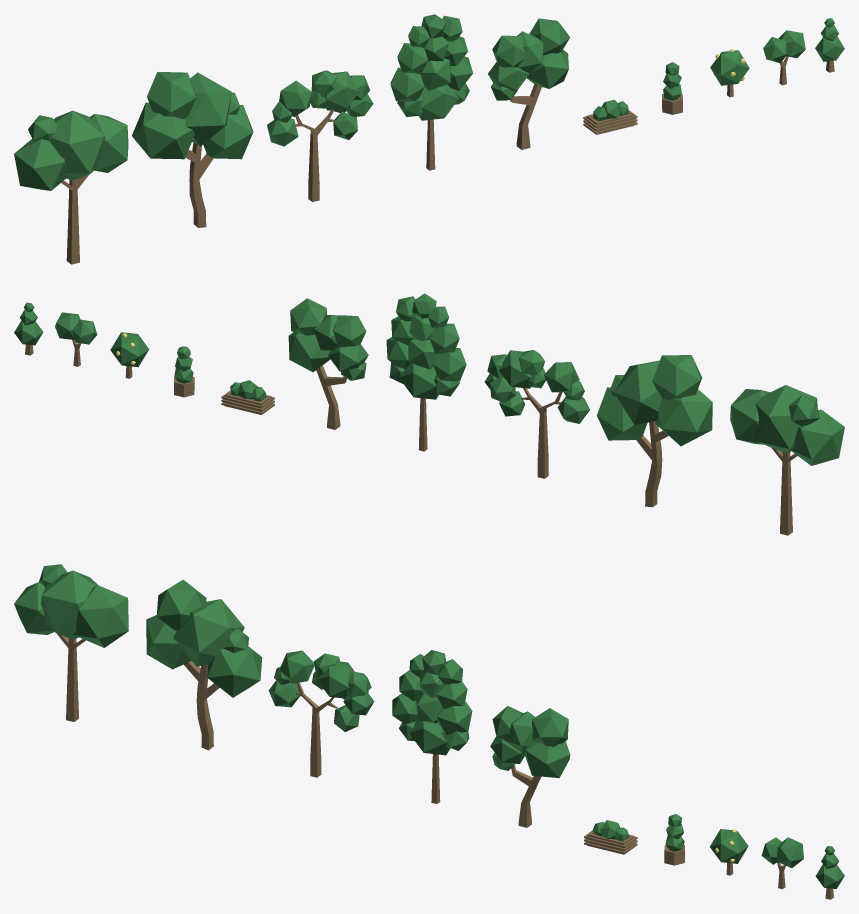
The model's file is tree.fbx.
The picture shows the model from 3 angles, top to bottom: view 1: azimuth 30°, elevation 25°; view 2: azimuth 150°, elevation 25°; view 3: azimuth 330°, elevation 25°; orthographic projection.
Parts seen in each view (by area): view 1: bigtree2, bigtree1, bigtree5, bigtree3, bigtree6, pommai1, smalltree2, smalltree1, pommai2, smalltree3; view 2: bigtree2, bigtree1, bigtree5, bigtree6, bigtree3, pommai1, smalltree2, smalltree1, pommai2, smalltree3; view 3: bigtree2, bigtree1, bigtree5, bigtree3, bigtree6, pommai1, smalltree2, smalltree1, pommai2, smalltree3.
Boxes of the visible parts, x1,y1,x2,y2 form: bigtree2: (132,72,253,227); bigtree1: (14,110,128,264); bigtree5: (390,14,472,170); bigtree3: (267,70,373,201); bigtree6: (488,18,569,149); pommai1: (583,99,637,134); smalltree2: (763,30,805,85); smalltree1: (710,49,749,97); pommai2: (662,62,682,114); smalltree3: (815,18,844,72); bigtree2: (597,355,712,507); bigtree1: (730,385,844,535); bigtree5: (386,293,466,451); bigtree6: (288,298,368,429); bigtree3: (484,350,590,478); pommai1: (221,380,274,414); smalltree2: (55,312,97,366); smalltree1: (110,332,149,378); pommai2: (174,346,194,397); smalltree3: (14,302,43,355); bigtree2: (146,579,262,750); bigtree1: (14,564,128,721); bigtree5: (392,650,472,803); bigtree3: (268,650,374,777); bigtree6: (490,706,570,827); pommai1: (584,820,637,854); smalltree2: (761,837,803,889); smalltree1: (710,829,748,875); pommai2: (664,814,684,865); smalltree3: (815,846,844,899).
Bounding box in the file's own units: 586 × 106 × 50.5.
